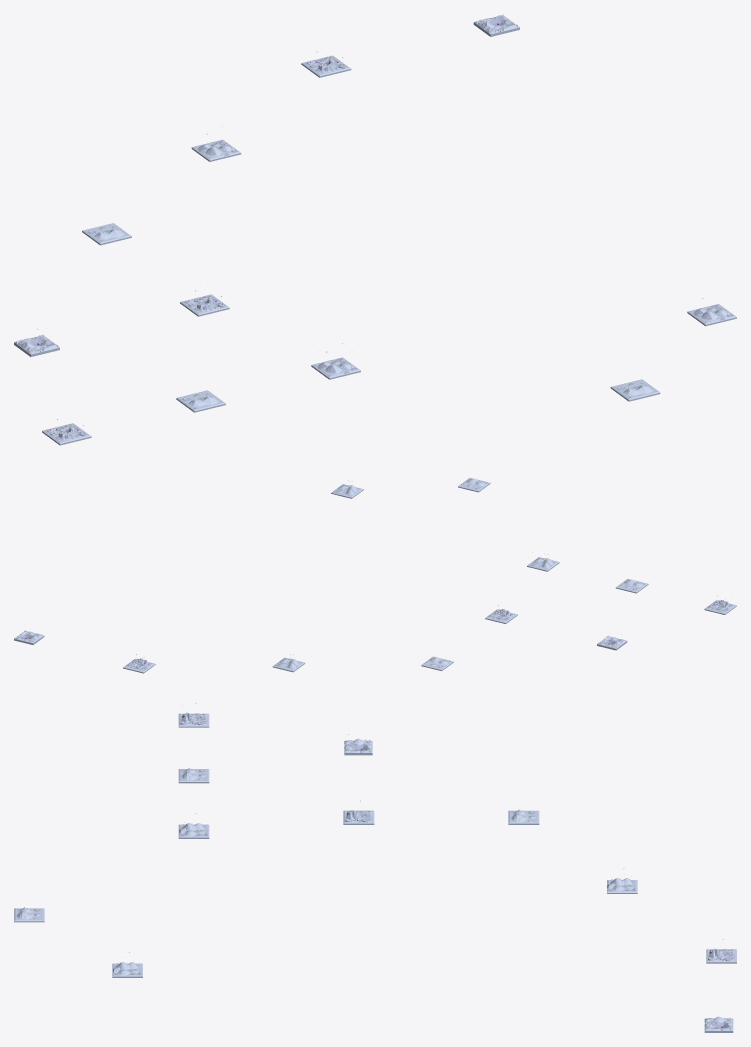
File: Blank_Space_Part4_D7.fbx
3 views of the same model, one above another, from view 1: azimuth 30°, elevation 25°; view 2: azimuth 150°, elevation 25°; view 3: azimuth 270°, elevation 25° (orthographic). The views are drawn at different scales.
Size of the model in its own units: 97890 by 2387 by 93989.
Materials: 5 (2 with a texture image).
